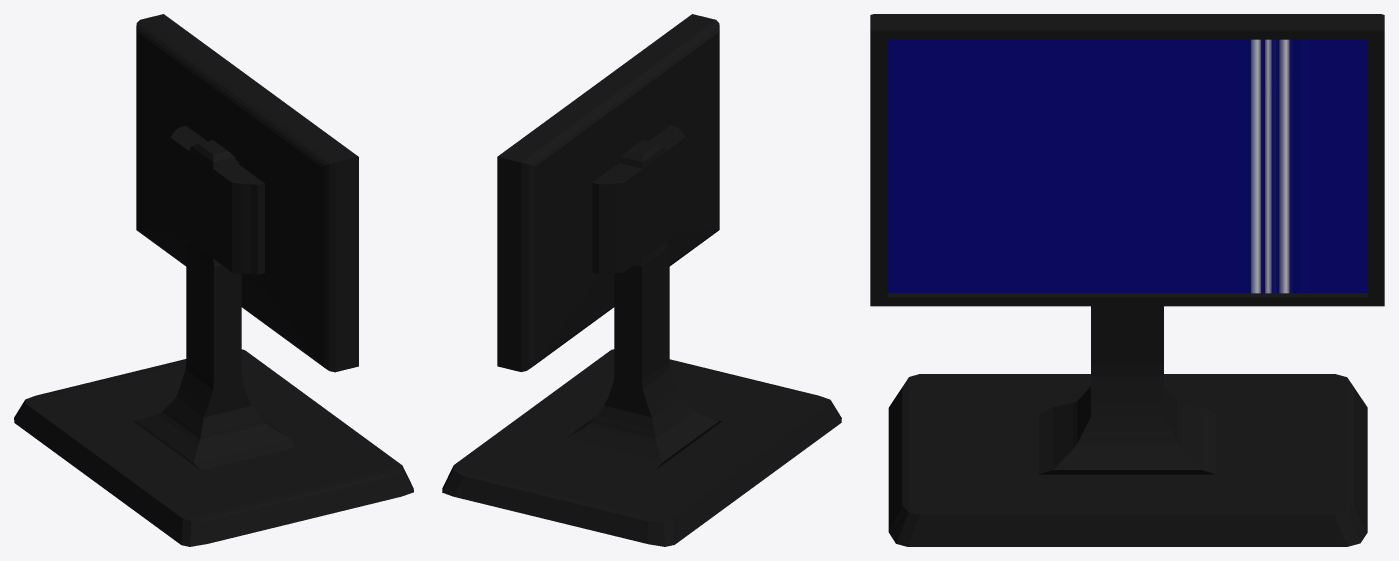
Rendered from screen_bluescreen.fbx.
3 views of the same model, side by side, from view 1: azimuth 30°, elevation 25°; view 2: azimuth 150°, elevation 25°; view 3: azimuth 270°, elevation 25° (orthographic). The views are drawn at different scales.
Parts seen in each view (by area): view 1: screen:Mesh; view 2: screen:Mesh; view 3: screen:Mesh.
Part boxes in pixels (<box>): screen:Mesh: <box>14,14,413,546</box>; screen:Mesh: <box>442,14,841,546</box>; screen:Mesh: <box>870,14,1384,546</box>.
Bounding box in the file's own units: 2.03 × 3 × 2.96.
2 materials, 1 textured.
